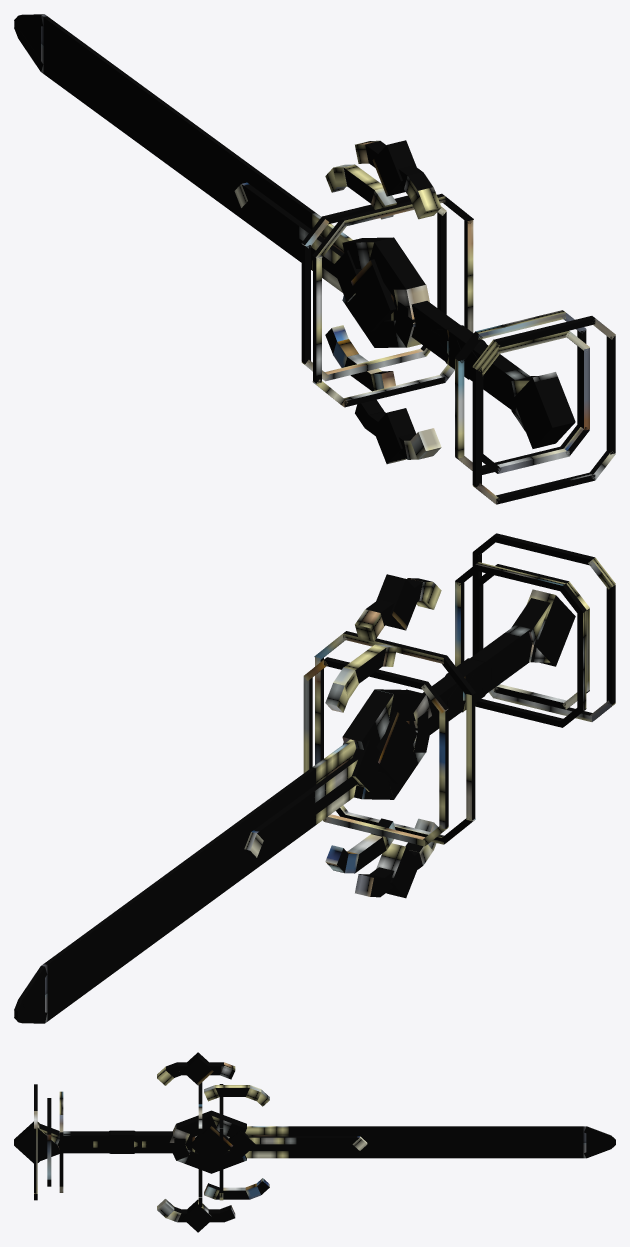
Rendered from ruine.obj.
3 renders of one model, top to bottom at view 1: azimuth 30°, elevation 25°; view 2: azimuth 150°, elevation 25°; view 3: azimuth 270°, elevation 25°, orthographic. The views are drawn at different scales.
Visible parts, largest first — view 1: cube.098; view 2: cube.098; view 3: cube.098.
Boxes of the visible parts, left/top/right/bottom form: cube.098: left=14, top=14, right=615, bottom=504; cube.098: left=14, top=533, right=615, bottom=1023; cube.098: left=14, top=1052, right=615, bottom=1232.
Bounding box in the file's own units: 0.6792 × 1.31 × 4.07.
